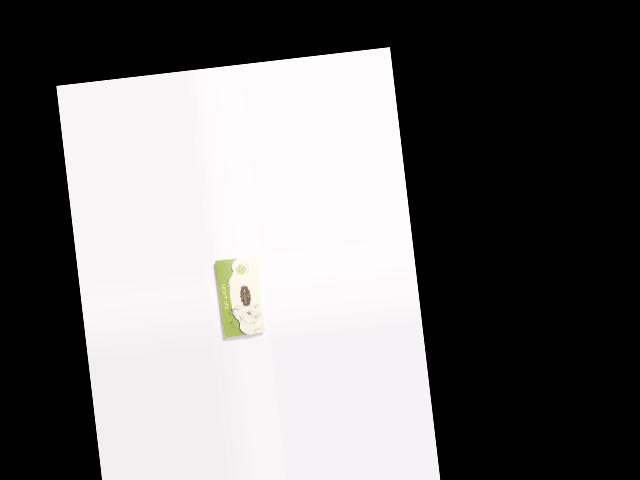chocolate: (213, 254, 266, 338)
